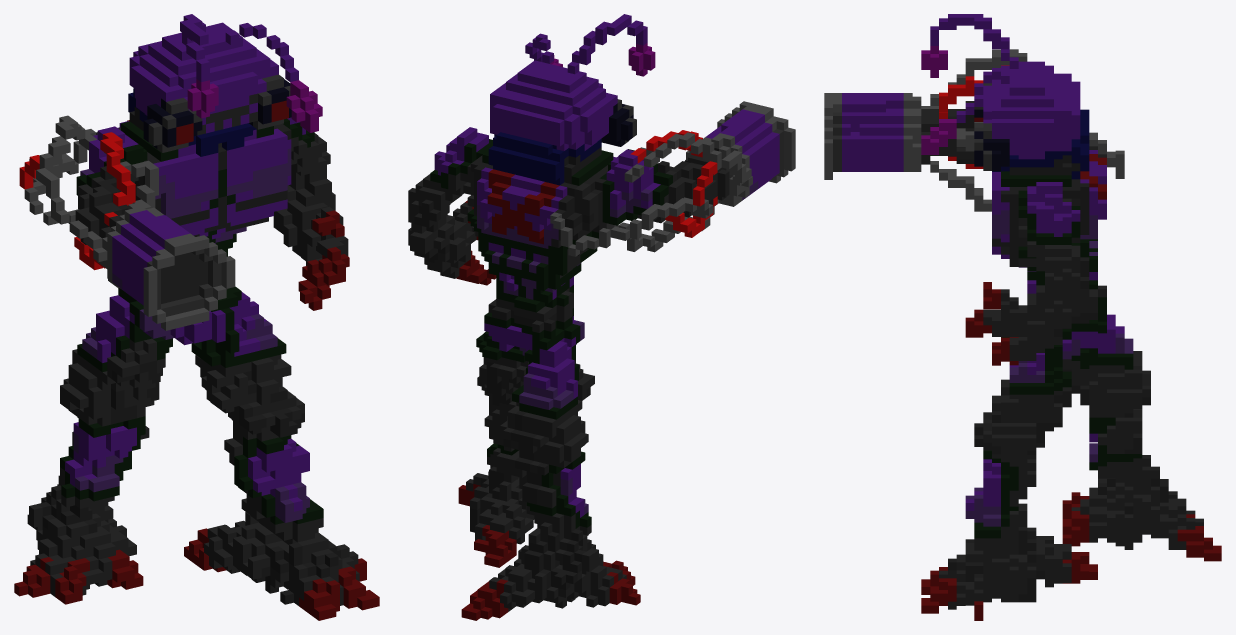
File: OBL1.obj
3 views of the same model, side by side, from view 1: azimuth 30°, elevation 25°; view 2: azimuth 150°, elevation 25°; view 3: azimuth 270°, elevation 25° (orthographic). The views are drawn at different scales.
Size of the model in its own units: 3.8 by 6.6 by 4.5.
1 material, 1 textured.
